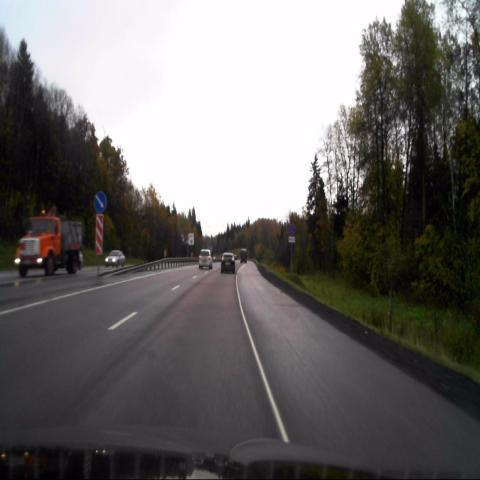3_27: (289, 223, 295, 235)
